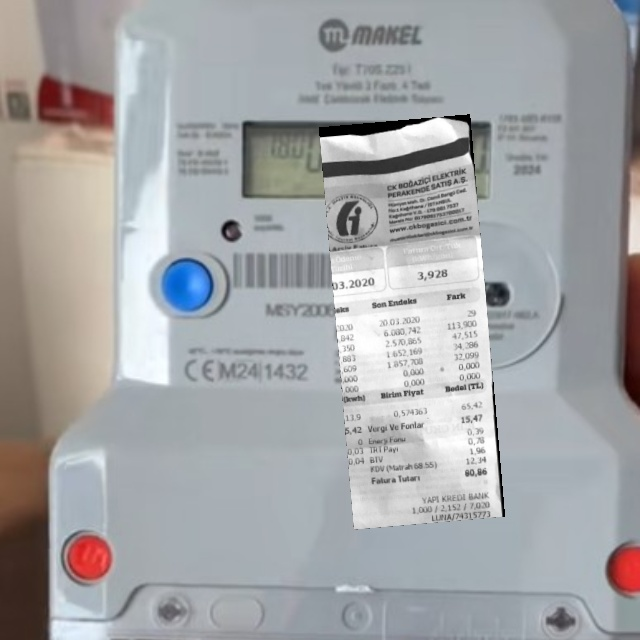electricity-bill: (319, 114, 505, 530)
